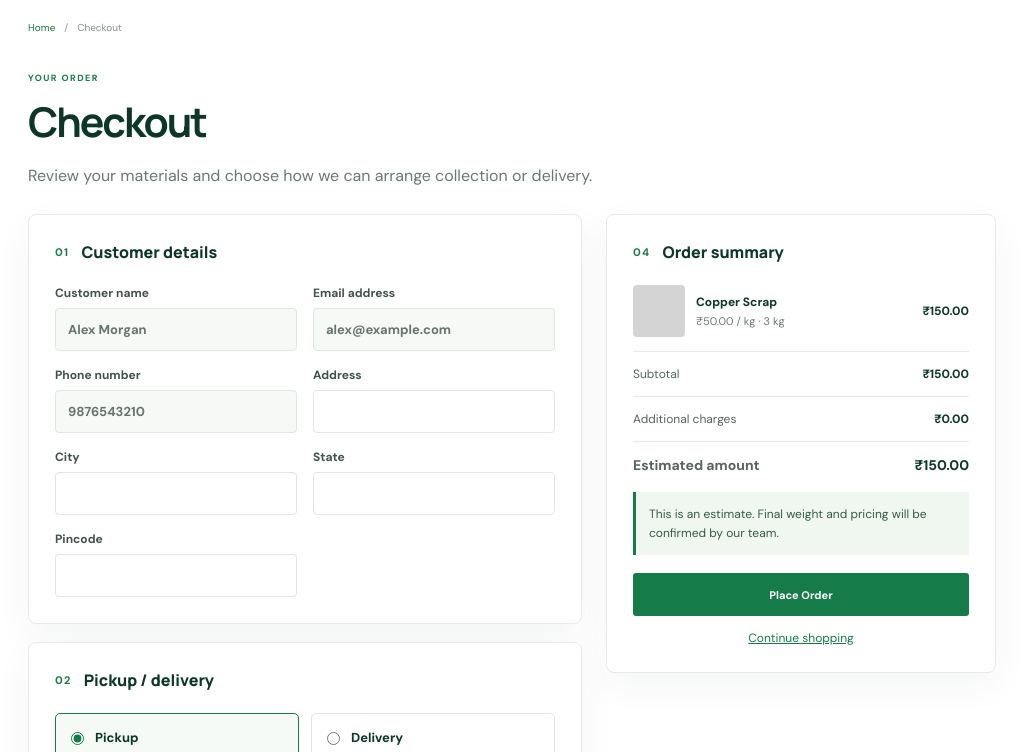
it: checkout › creates an order from the selected cart items and clears the cart after success
Expected: the field showing "9876543210" is shown, left=55, top=390, right=297, bottom=433
Type "12 Green Street" into the field labelled "Address". click: (434, 412)
box: left=313, top=390, right=555, bottom=433
Type "Pune" into the field labelled "City". click: (176, 494)
box: left=55, top=472, right=297, bottom=515
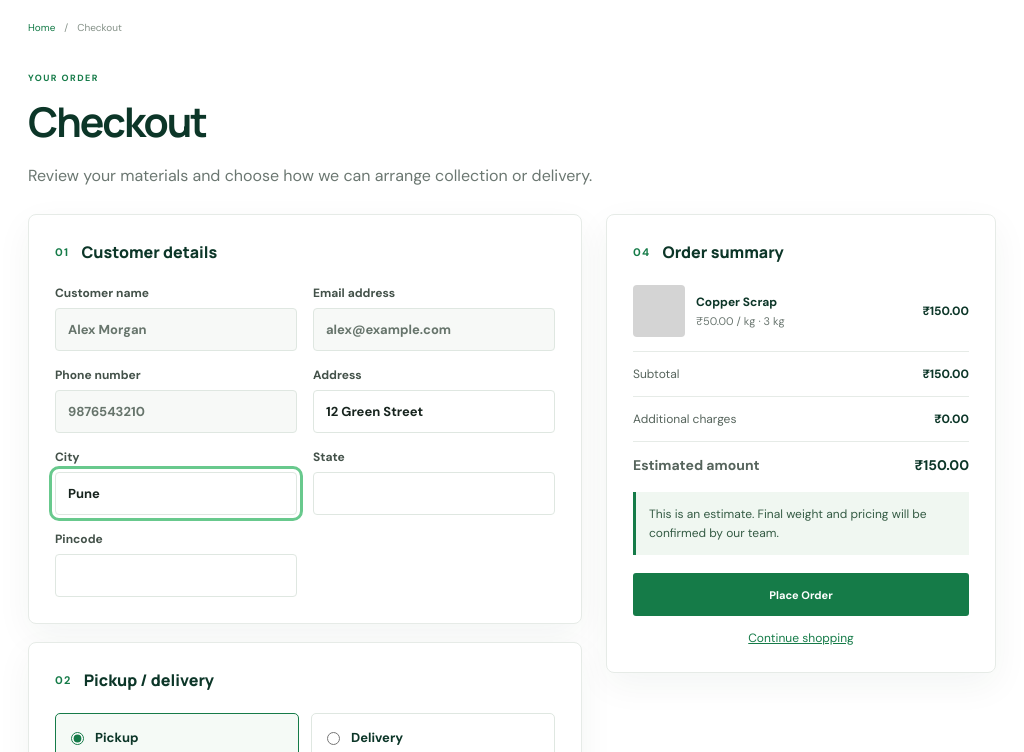
Type "Maharashtra" into the field labelled "State". click: (434, 494)
box: left=313, top=472, right=555, bottom=515
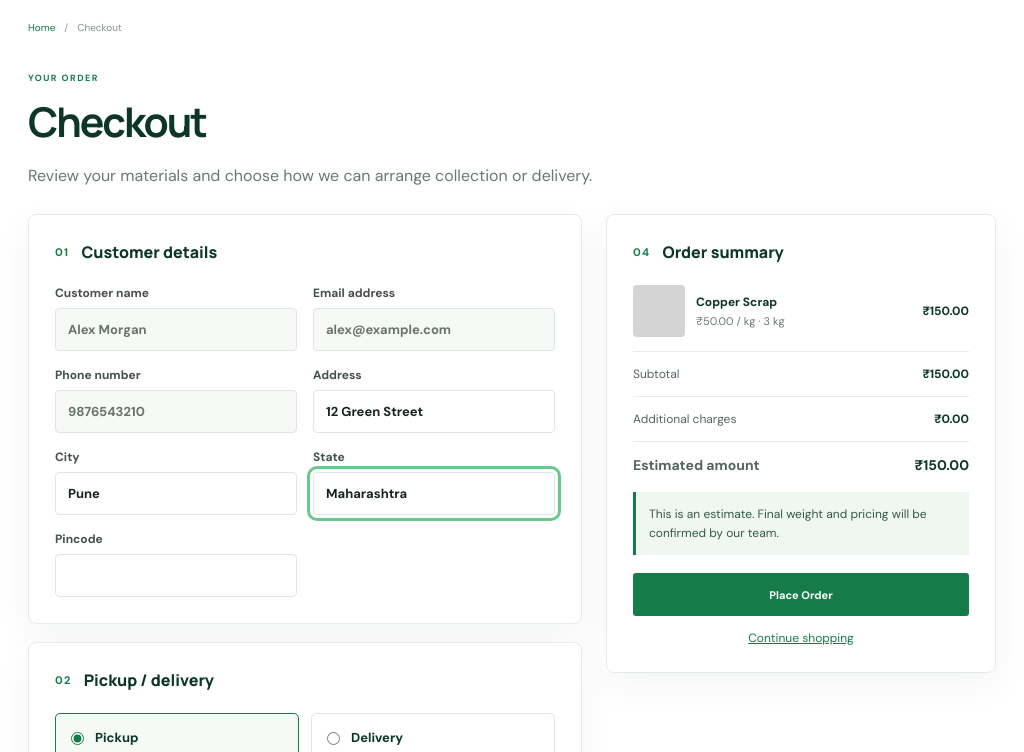
Type "411001" into the field labelled "Pincode". click: (176, 576)
box: left=55, top=554, right=297, bottom=597
(page scrolled)
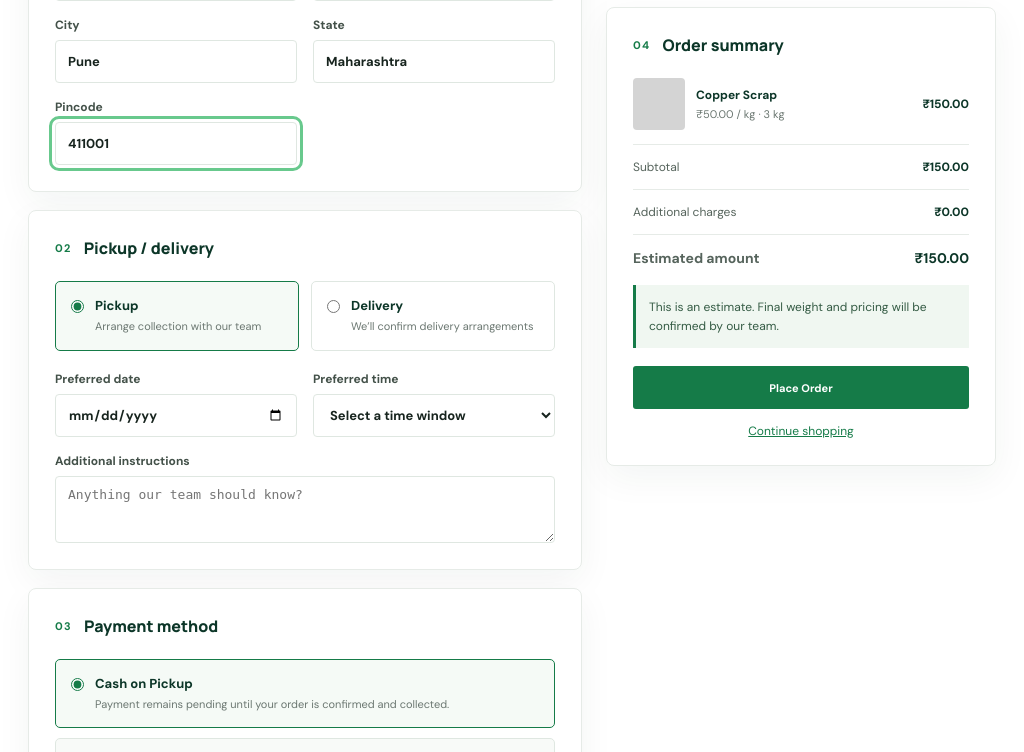
Type "2030-01-15" into the date field labelled "Preferred date". click: (176, 415)
box: left=55, top=394, right=297, bottom=436
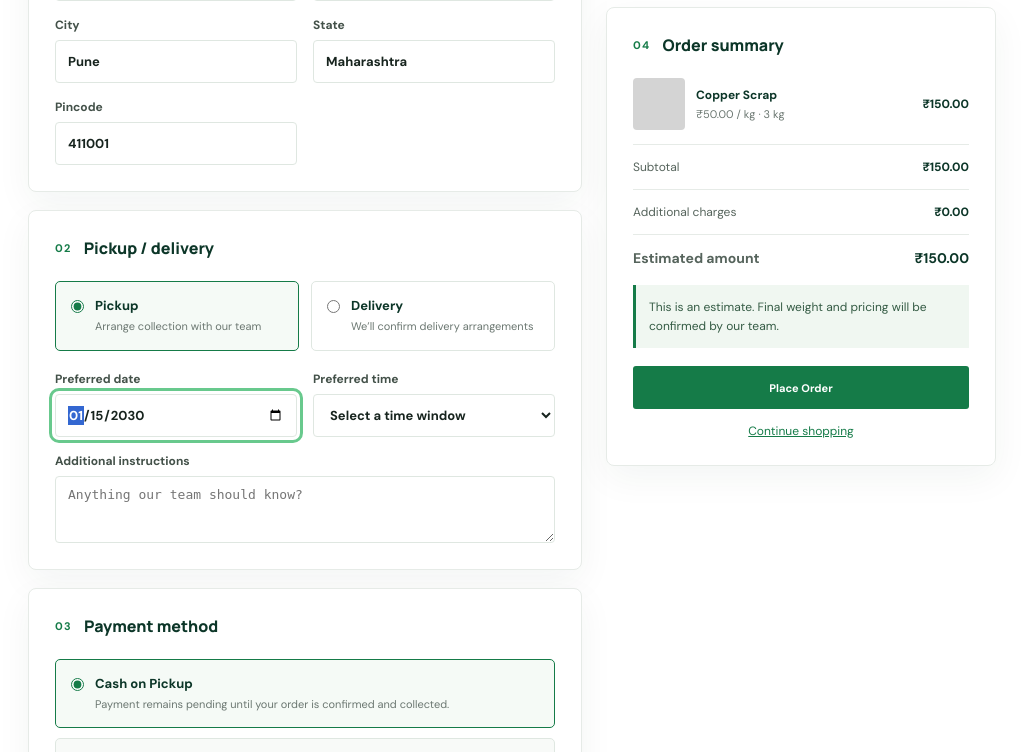
Select "9:00 AM - 12:00 PM" in the dropdown labelled "Preferred time". click: (434, 415)
box: left=313, top=394, right=555, bottom=436
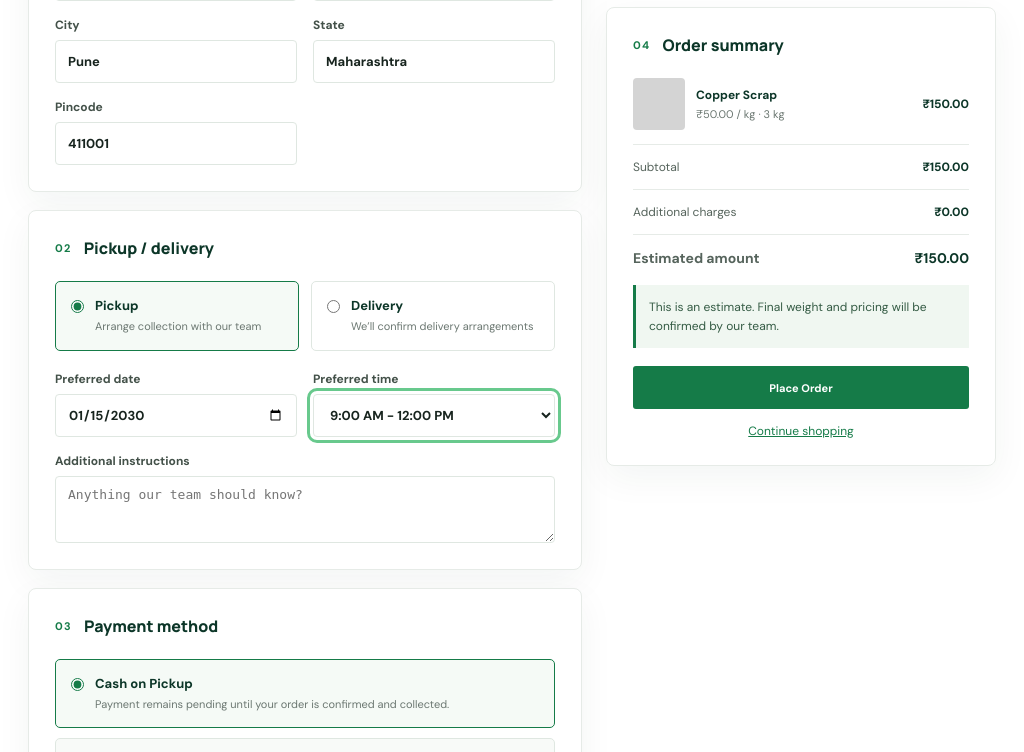
Click the button "Place Order". click: (801, 388)
box: left=633, top=366, right=969, bottom=409
(page scrolled)
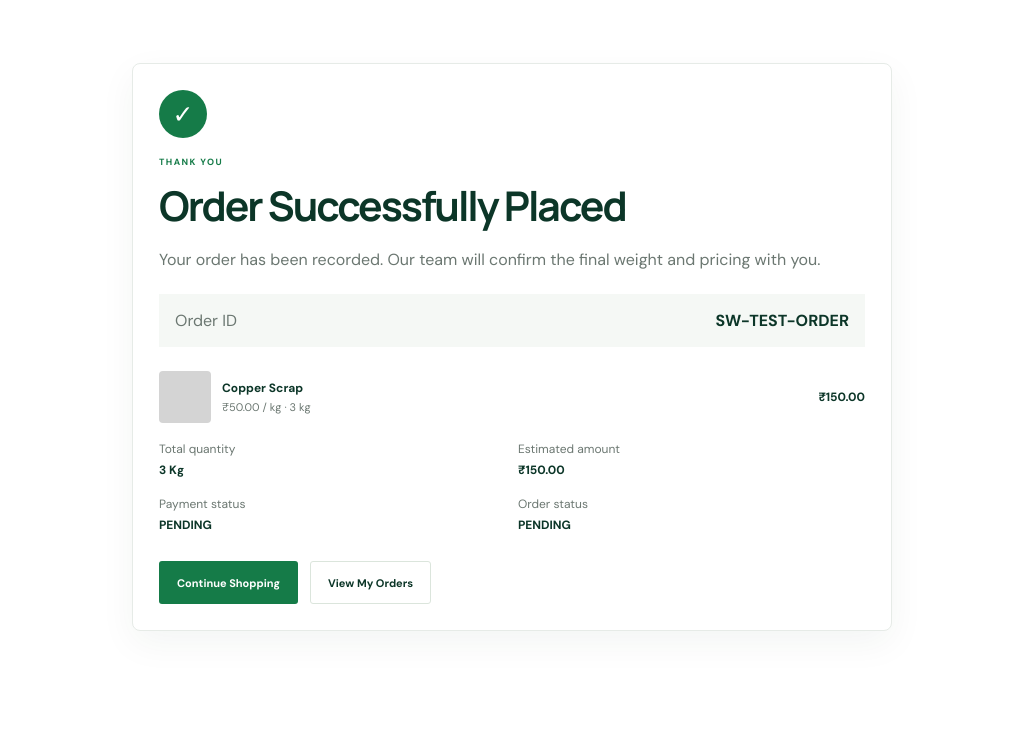
Now the heading "Order Successfully Placed" is shown, box left=159, top=177, right=626, bottom=233
Now the text "SW-TEST-ORDER" is shown, box left=716, top=310, right=849, bottom=331
